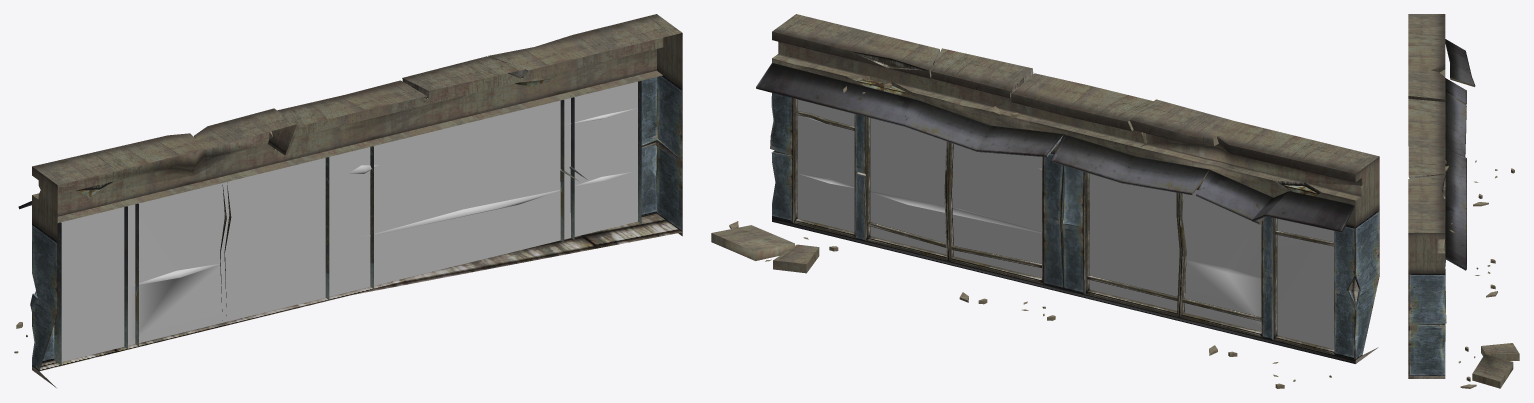
Rendered from Store_front_13_A.fbx.
The picture shows the model from 3 angles, left to right: view 1: azimuth 30°, elevation 25°; view 2: azimuth 150°, elevation 25°; view 3: azimuth 270°, elevation 25°; orthographic projection. The views are drawn at different scales.
Parts seen in each view (by area): view 1: Store_front_13_A; view 2: Store_front_13_A; view 3: Store_front_13_A.
Boxes of the visible parts, x1,y1,x2,y2 form: Store_front_13_A: (14,14,682,387); Store_front_13_A: (711,14,1379,388); Store_front_13_A: (1408,14,1519,388).
Size of the model in its own units: 1470 by 445 by 301.
